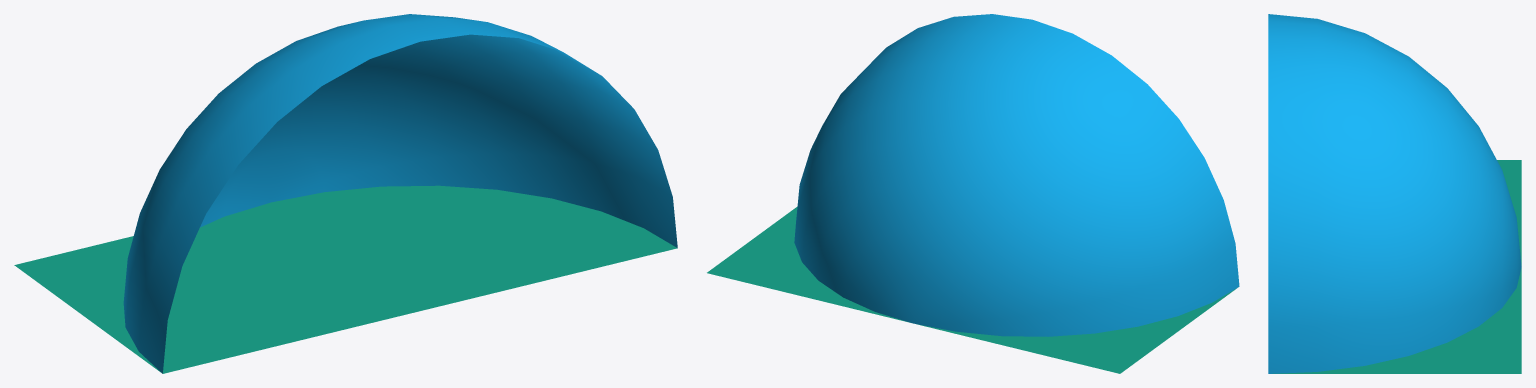
File: Skydome.FBX
3 views of the same model, side by side, from view 1: azimuth 30°, elevation 25°; view 2: azimuth 150°, elevation 25°; view 3: azimuth 270°, elevation 25° (orthographic). The views are drawn at different scales.
Visible parts, largest first — view 1: Skydome, Floor; view 2: Skydome, Floor; view 3: Skydome, Floor.
Part boxes in pixels (x1,y1,x2,y2): Skydome: [123, 14, 677, 373]; Floor: [14, 185, 677, 373]; Skydome: [794, 14, 1239, 336]; Floor: [707, 206, 1236, 373]; Skydome: [1268, 14, 1521, 373]; Floor: [1272, 160, 1521, 373].
Size of the model in its own units: 19770 by 9885 by 9885.
